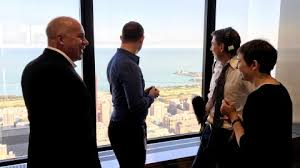Bad: (22, 16, 159, 168), (200, 27, 293, 168), (107, 21, 237, 78)
